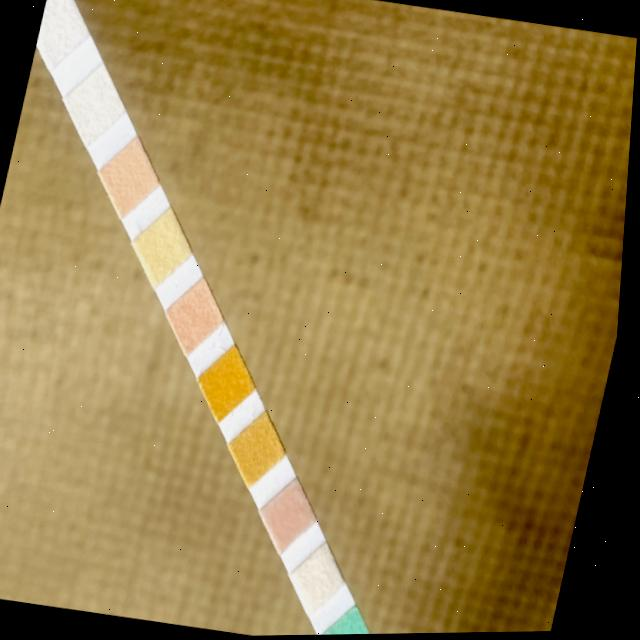Bilirubin: (307, 561, 343, 603)
Blood: (212, 363, 251, 407)
Glucose: (338, 622, 375, 636)
Ketone: (277, 495, 315, 535)
Leukocytes: (37, 1, 80, 52)
Nitrite: (76, 83, 117, 129)
Protein: (147, 226, 187, 272)
SpGravity: (246, 428, 282, 472)
Urobilinogen: (112, 154, 152, 200)
pH: (182, 295, 218, 340)
